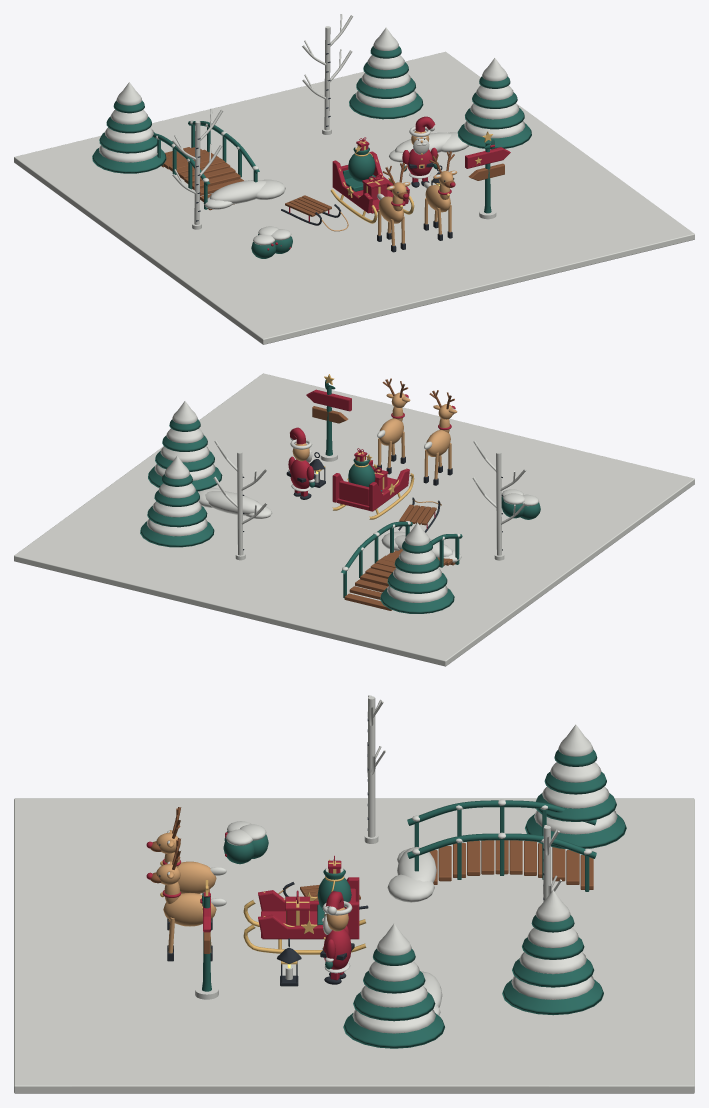
File: christmas-storybook-forest-gift-delivery-cdfea484__18785.glb
The picture shows the model from 3 angles, top to bottom: view 1: azimuth 30°, elevation 25°; view 2: azimuth 150°, elevation 25°; view 3: azimuth 270°, elevation 25°; orthographic projection. The views are drawn at different scales.
Visible parts, largest first — view 1: 000-village-snow-foundation/cream, 010-woodland-spruce/pine, 009-woodland-spruce/pine, 011-woodland-spruce/pine, 010-woodland-spruce/cream, 009-woodland-spruce/cream, 011-woodland-spruce/cream, 008-arched-footbridge/oak, 014-sculpted-snowbank/cream, 008-arched-footbridge/pine, 013-winter-birch/cream, 012-winter-birch/cream (+10 smaller); view 2: 000-village-snow-foundation/cream, 010-woodland-spruce/pine, 009-woodland-spruce/pine, 010-woodland-spruce/cream, 009-woodland-spruce/cream, 001-royal-delivery-sleigh/berry, 011-woodland-spruce/pine, 011-woodland-spruce/cream, 008-arched-footbridge/oak, 008-arched-footbridge/pine, 015-sculpted-snowbank/cream, 012-winter-birch/cream (+9 smaller); view 3: 000-village-snow-foundation/cream, 008-arched-footbridge/oak, 011-woodland-spruce/pine, 010-woodland-spruce/pine, 009-woodland-spruce/pine, 008-arched-footbridge/pine, 010-woodland-spruce/cream, 011-woodland-spruce/cream, 009-woodland-spruce/cream, 001-royal-delivery-sleigh/berry, 003-harness-reindeer/biscuit, 014-sculpted-snowbank/cream (+9 smaller).
Part boxes in pixels (bbox=[...]): 000-village-snow-foundation/cream: bbox=[14, 51, 694, 344]; 010-woodland-spruce/pine: bbox=[349, 46, 423, 119]; 009-woodland-spruce/pine: bbox=[92, 100, 166, 173]; 011-woodland-spruce/pine: bbox=[457, 76, 531, 149]; 010-woodland-spruce/cream: bbox=[355, 27, 416, 107]; 009-woodland-spruce/cream: bbox=[99, 82, 157, 162]; 011-woodland-spruce/cream: bbox=[464, 58, 525, 138]; 008-arched-footbridge/oak: bbox=[161, 147, 243, 210]; 014-sculpted-snowbank/cream: bbox=[203, 179, 285, 209]; 008-arched-footbridge/pine: bbox=[153, 121, 259, 209]; 013-winter-birch/cream: bbox=[302, 14, 352, 134]; 012-winter-birch/cream: bbox=[172, 108, 222, 229]; 000-village-snow-foundation/cream: bbox=[14, 373, 694, 666]; 010-woodland-spruce/pine: bbox=[140, 474, 214, 547]; 009-woodland-spruce/pine: bbox=[380, 541, 454, 613]; 010-woodland-spruce/cream: bbox=[147, 456, 207, 536]; 009-woodland-spruce/cream: bbox=[387, 522, 447, 602]; 001-royal-delivery-sleigh/berry: bbox=[332, 460, 409, 511]; 011-woodland-spruce/pine: bbox=[148, 419, 222, 491]; 011-woodland-spruce/cream: bbox=[154, 401, 215, 480]; 008-arched-footbridge/oak: bbox=[344, 549, 455, 610]; 008-arched-footbridge/pine: bbox=[341, 521, 462, 598]; 015-sculpted-snowbank/cream: bbox=[198, 487, 272, 518]; 012-winter-birch/cream: bbox=[472, 440, 526, 560]; 000-village-snow-foundation/cream: bbox=[14, 798, 694, 1093]; 008-arched-footbridge/oak: bbox=[429, 840, 593, 889]; 011-woodland-spruce/pine: bbox=[343, 948, 444, 1048]; 010-woodland-spruce/pine: bbox=[502, 915, 603, 1015]; 009-woodland-spruce/pine: bbox=[525, 749, 626, 848]; 008-arched-footbridge/pine: bbox=[407, 800, 596, 891]; 010-woodland-spruce/cream: bbox=[511, 890, 594, 999]; 011-woodland-spruce/cream: bbox=[352, 923, 435, 1033]; 009-woodland-spruce/cream: bbox=[534, 724, 617, 834]; 001-royal-delivery-sleigh/berry: bbox=[258, 877, 359, 939]; 003-harness-reindeer/biscuit: bbox=[156, 861, 216, 953]; 014-sculpted-snowbank/cream: bbox=[387, 847, 436, 902].
Size of the model in its own units: 12 by 3.13 by 12.
